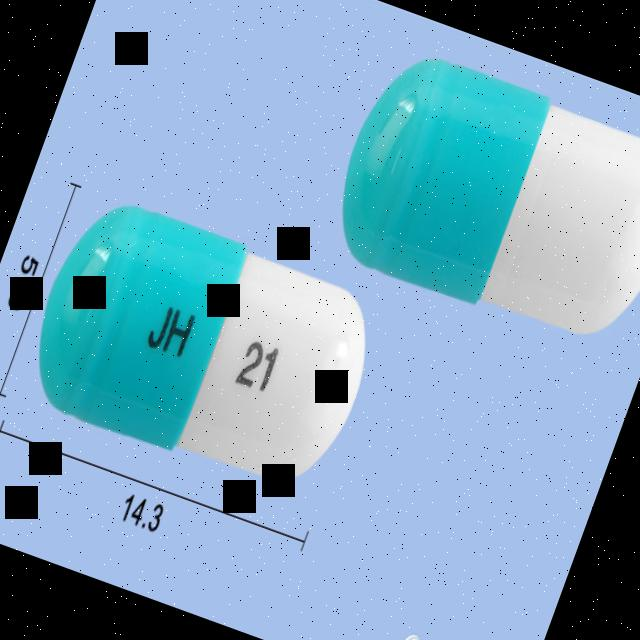Flunazole Cap: (12, 186, 394, 504)
